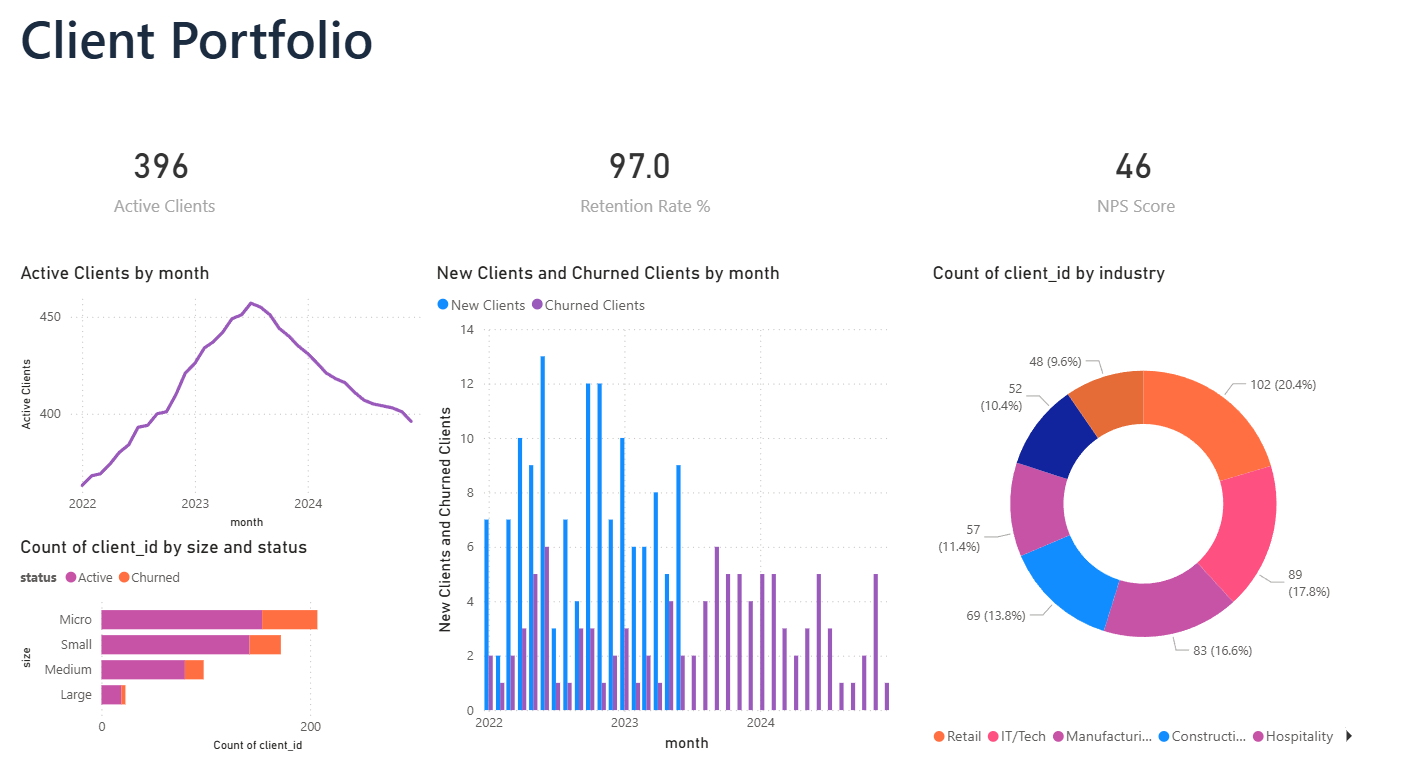

This screenshot's page, from the dashboard's own definition file:
{"tool":"powerbi","page":{"name":"Client Portfolio","canvas":[1280,720],"ordinal":2},"visuals":[{"type":"advanceCardE03760C5AB684758B56AA29F9E6C257B","fields":{"mainMeasure":["_Measures.Active Clients"]},"box":[9.8,110.2,280.3,117.2],"z":0},{"type":"advanceCardE03760C5AB684758B56AA29F9E6C257B","fields":{"mainMeasure":["_Measures.Retention Rate %"]},"box":[456,110.2,283.1,117.2],"z":1000},{"type":"advanceCardE03760C5AB684758B56AA29F9E6C257B","fields":{"mainMeasure":["_Measures.NPS Score"]},"box":[860.5,267.8,280.3,12.6],"z":2000},{"type":"textbox","box":[9.8,0,906.5,110.2],"z":3000},{"type":"advanceCardE03760C5AB684758B56AA29F9E6C257B","fields":{"mainMeasure":["_Measures.NPS Score"]},"box":[905.1,110.2,301.2,117.2],"z":4000},{"type":"lineChart","fields":{"Category":["monthly_kpis.month"],"Y":["_Measures.Active Clients"]},"box":[9.8,246.9,387.7,253.8],"z":5000},{"type":"clusteredColumnChart","fields":{"Category":["monthly_kpis.month"],"Y":["_Measures.New Clients","_Measures.Churned Clients"]},"box":[397.5,246.9,442.1,461.6],"z":6000},{"type":"donutChart","fields":{"Category":["clients.industry"],"Y":["CountNonNull(clients.client_id)"]},"box":[860.5,246.9,403.1,461.6],"z":7000},{"type":"barChart","fields":{"Category":["clients.size"],"Y":["CountNonNull(clients.client_id)"],"Series":["clients.status"]},"box":[9.8,502.1,387.7,206.4],"z":8000}]}

Visuals, with their boxes on the page's 1280x720 design canvas (x1, y1, x2, y2). These are canvas units, not pixel positions in the 1408x767 screenshot, which may show the page scaled, cropped or inside an application window:
advanceCardE03760C5AB684758B56AA29F9E6C257B - _Measures.Active Clients: [x1=10, y1=110, x2=290, y2=227]
advanceCardE03760C5AB684758B56AA29F9E6C257B - _Measures.Retention Rate %: [x1=456, y1=110, x2=739, y2=227]
advanceCardE03760C5AB684758B56AA29F9E6C257B - _Measures.NPS Score: [x1=860, y1=268, x2=1141, y2=280]
textbox: [x1=10, y1=0, x2=916, y2=110]
advanceCardE03760C5AB684758B56AA29F9E6C257B - _Measures.NPS Score: [x1=905, y1=110, x2=1206, y2=227]
lineChart - monthly_kpis.month x _Measures.Active Clients: [x1=10, y1=247, x2=398, y2=501]
clusteredColumnChart - monthly_kpis.month x _Measures.New Clients: [x1=398, y1=247, x2=840, y2=708]
donutChart - clients.industry x CountNonNull(clients.client_id): [x1=860, y1=247, x2=1264, y2=708]
barChart - clients.size x CountNonNull(clients.client_id): [x1=10, y1=502, x2=398, y2=708]
